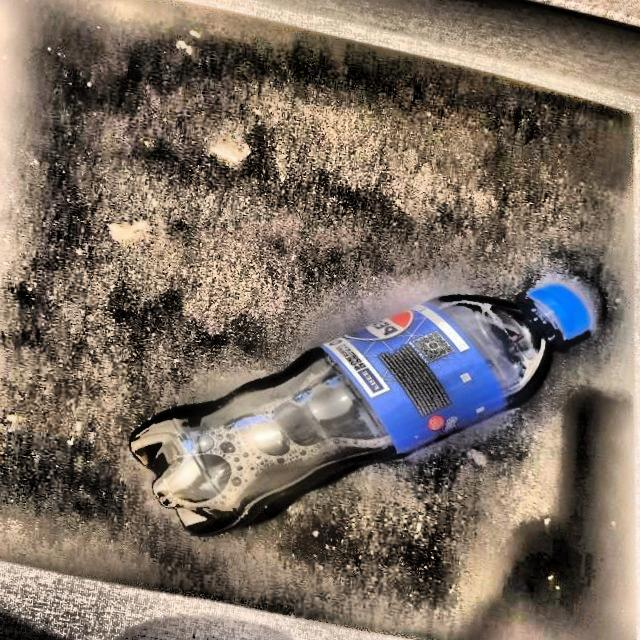pepsi-bottle: (123, 278, 592, 540)
